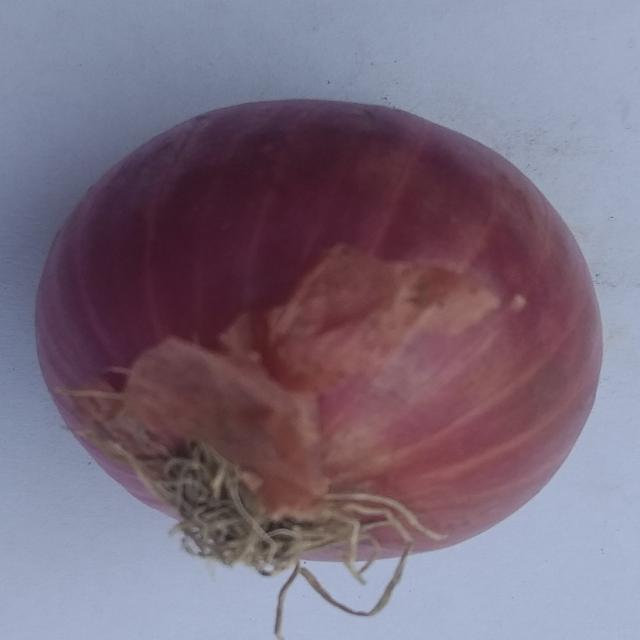onion: (34, 93, 606, 638)
